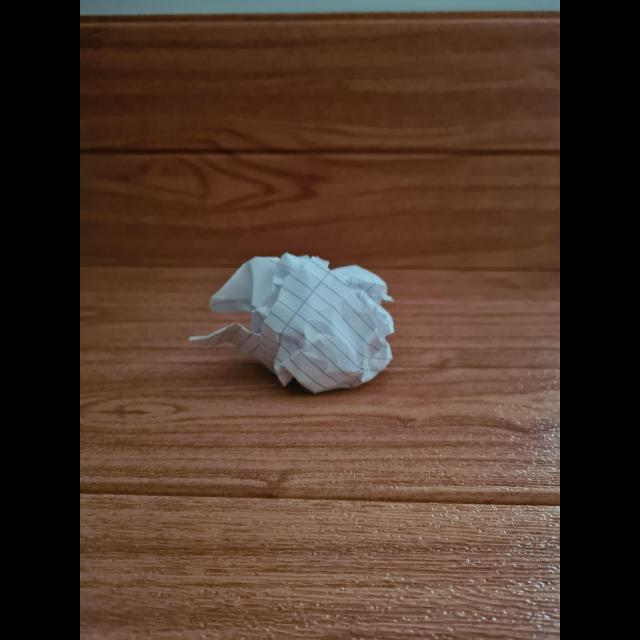scrap_paper: (194, 246, 400, 394)
